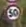limite 50: (3, 2, 20, 21)
